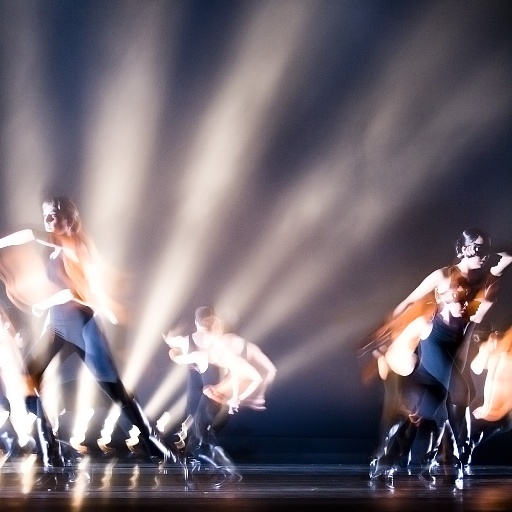hand: (225, 396, 240, 415), (202, 384, 217, 401)
